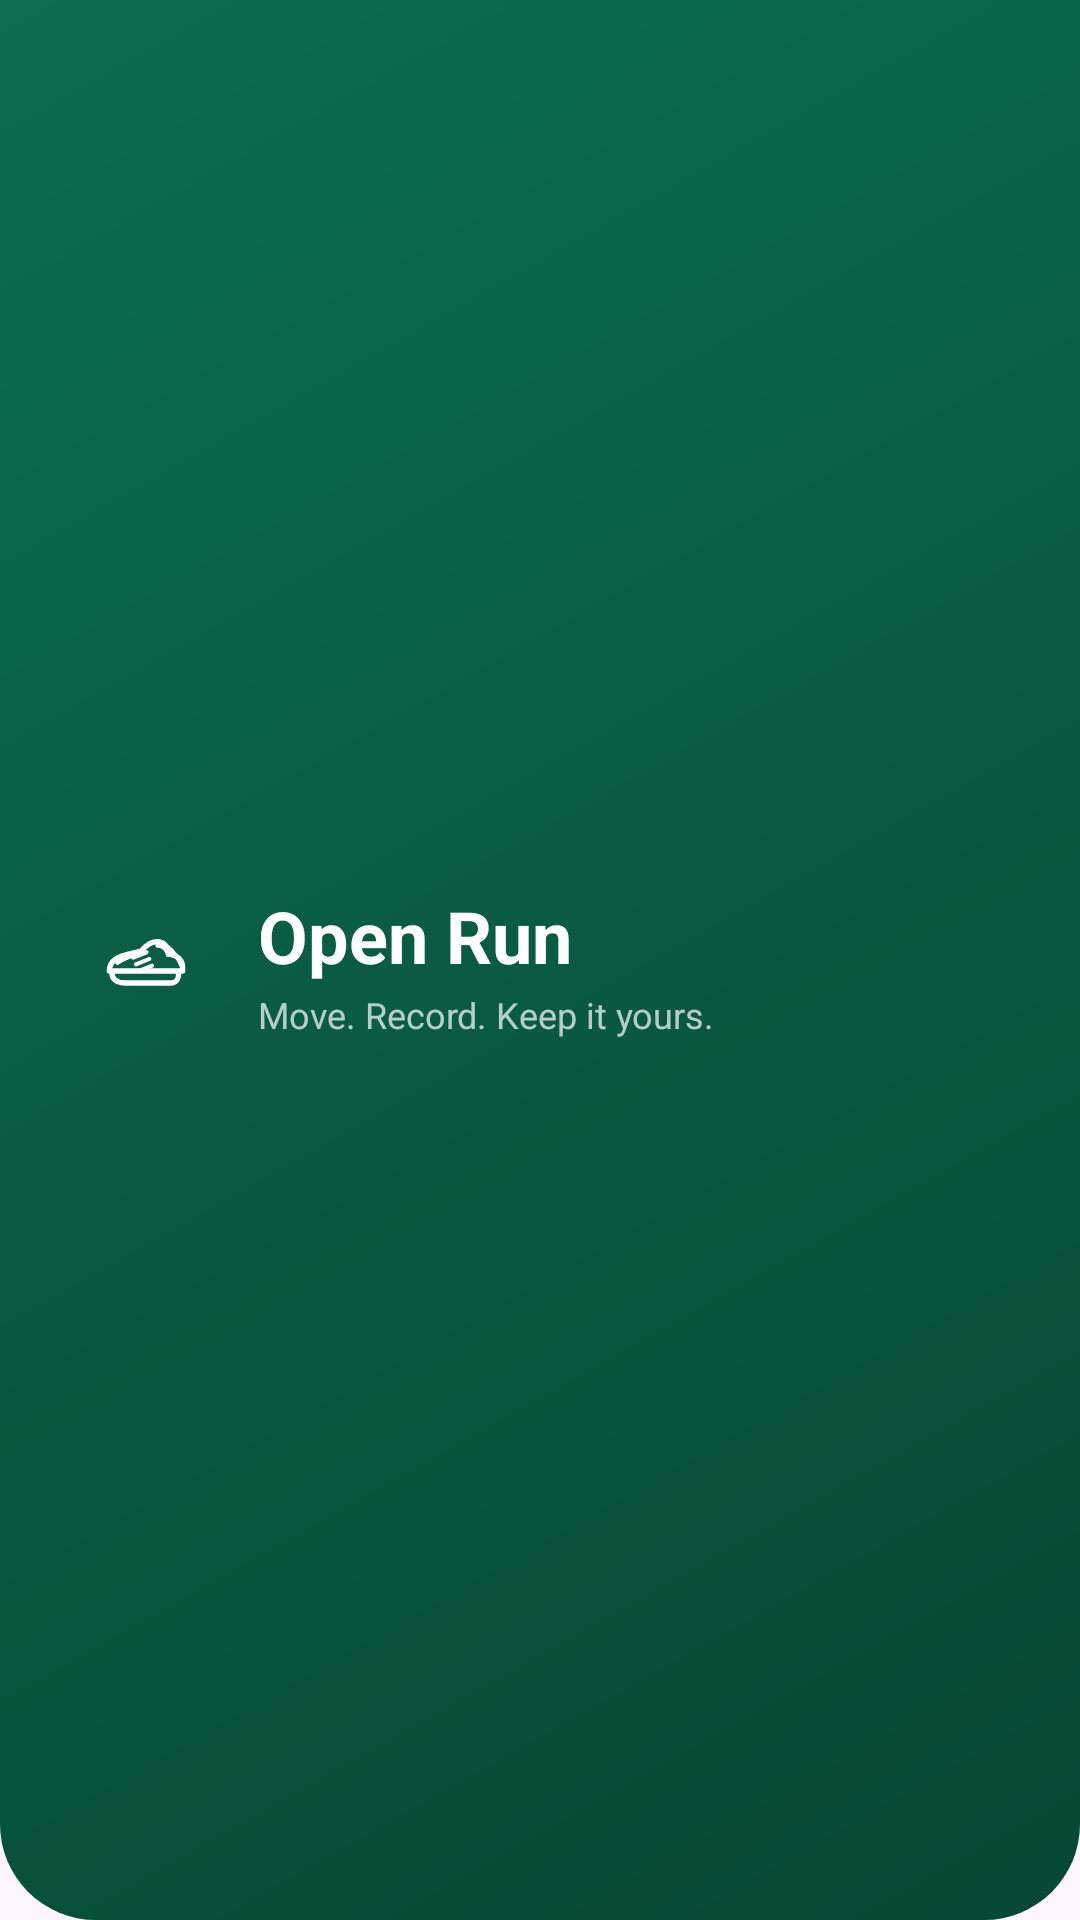

Point at icon controls on the screen. Image size 1080x1920, points as [x,y].
shoe: [146,962]
